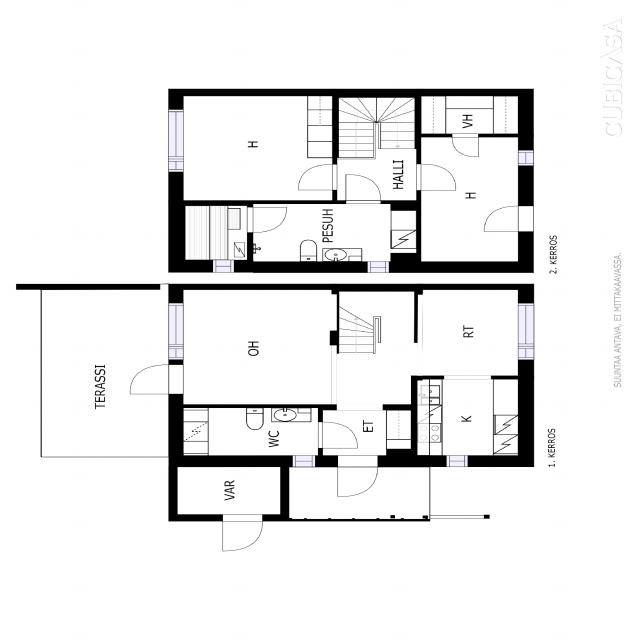door: (338, 455, 377, 497), (129, 365, 183, 394), (223, 514, 262, 551), (484, 206, 534, 232), (318, 422, 358, 448), (416, 164, 456, 190), (247, 207, 287, 233), (298, 164, 337, 190), (346, 174, 380, 203), (452, 133, 478, 157)
